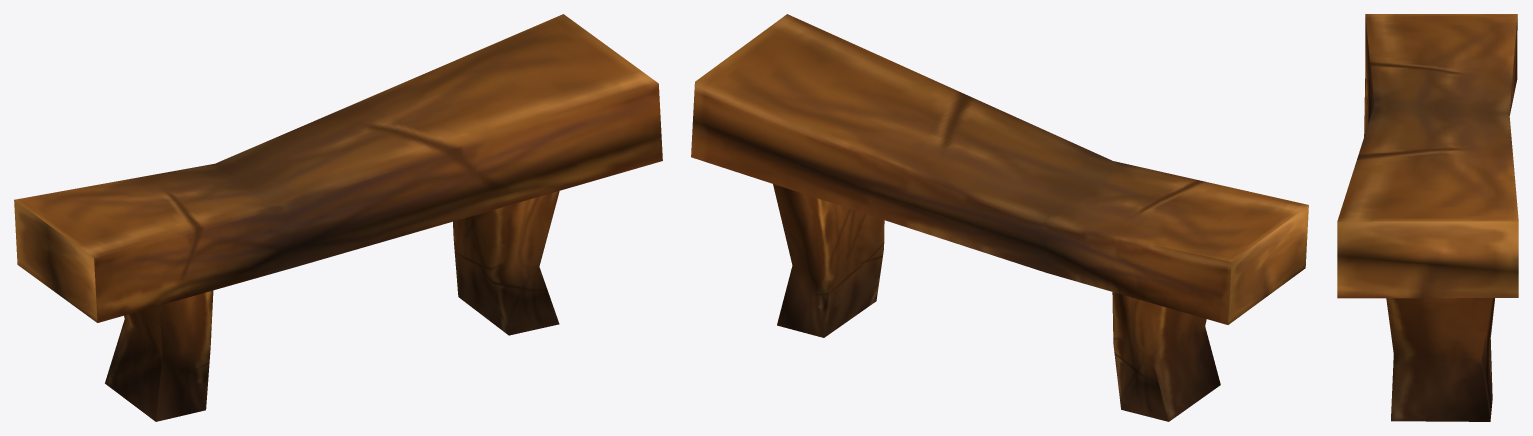
Rendered from seat_1.fbx.
3 renders of one model, left to right at view 1: azimuth 30°, elevation 25°; view 2: azimuth 150°, elevation 25°; view 3: azimuth 270°, elevation 25°, orthographic. The views are drawn at different scales.
Visible parts, largest first — view 1: seat_1; view 2: seat_1; view 3: seat_1.
Boxes of the visible parts, <box> form: seat_1: <box>14,14,662,421</box>; seat_1: <box>691,14,1308,421</box>; seat_1: <box>1337,14,1518,421</box>.
Bounding box in the file's own units: 1.62 × 0.6831 × 0.4825.
